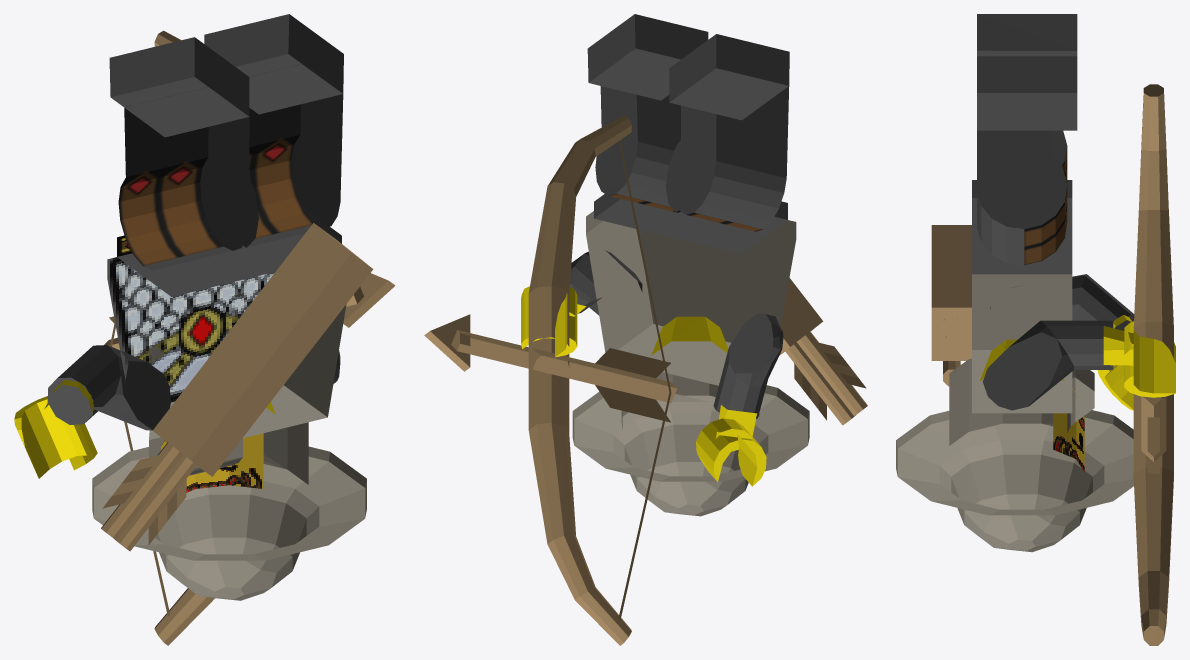
Rendered from minifigjohnmayne01.glb.
The picture shows the model from 3 angles, left to right: view 1: azimuth 30°, elevation 25°; view 2: azimuth 150°, elevation 25°; view 3: azimuth 270°, elevation 25°; orthographic projection. The views are drawn at different scales.
Visible parts, largest first — view 1: 025_shape13, 023_shape11, 019_shape8, 022_shape10, 015_shape5, 021_shape9, 017_shape7, 029_shape16, 012_shape3, 032_shape18, 039_shape22, 038_shape21; view 2: 022_shape10, 039_shape22, 025_shape13, 019_shape8, 038_shape21, 021_shape9, 015_shape5, 017_shape7, 023_shape11, 012_shape3, 029_shape16, 032_shape18 (+2 smaller); view 3: 025_shape13, 039_shape22, 015_shape5, 022_shape10, 017_shape7, 035_shape20, 023_shape11, 021_shape9, 042_shape18, 012_shape3, 029_shape16, 038_shape21 (+2 smaller).
Boxes of the visible parts, x1=… form: 025_shape13: x1=92, y1=402, x2=366, y2=600; 023_shape11: x1=101, y1=223, x2=373, y2=551; 019_shape8: x1=118, y1=88, x2=249, y2=270; 022_shape10: x1=107, y1=257, x2=346, y2=437; 015_shape5: x1=241, y1=64, x2=343, y2=248; 021_shape9: x1=109, y1=37, x2=249, y2=137; 017_shape7: x1=204, y1=14, x2=343, y2=114; 029_shape16: x1=47, y1=345, x2=170, y2=430; 012_shape3: x1=117, y1=178, x2=341, y2=296; 032_shape18: x1=14, y1=379, x2=97, y2=478; 039_shape22: x1=110, y1=30, x2=214, y2=645; 038_shape21: x1=104, y1=273, x2=395, y2=349; 022_shape10: x1=586, y1=211, x2=796, y2=385; 039_shape22: x1=528, y1=115, x2=671, y2=645; 025_shape13: x1=572, y1=316, x2=809, y2=516; 019_shape8: x1=674, y1=69, x2=789, y2=231; 038_shape21: x1=424, y1=314, x2=677, y2=422; 021_shape9: x1=669, y1=34, x2=789, y2=120; 015_shape5: x1=595, y1=48, x2=680, y2=212; 017_shape7: x1=587, y1=14, x2=708, y2=100; 023_shape11: x1=779, y1=278, x2=867, y2=425; 012_shape3: x1=594, y1=140, x2=787, y2=254; 029_shape16: x1=713, y1=313, x2=783, y2=418; 032_shape18: x1=696, y1=403, x2=766, y2=486; 025_shape13: x1=896, y1=339, x2=1133, y2=552; 039_shape22: x1=1133, y1=84, x2=1173, y2=645; 015_shape5: x1=977, y1=92, x2=1067, y2=265; 022_shape10: x1=972, y1=274, x2=1072, y2=413; 017_shape7: x1=977, y1=56, x2=1077, y2=130; 035_shape20: x1=983, y1=320, x2=1113, y2=410; 023_shape11: x1=931, y1=225, x2=971, y2=386; 021_shape9: x1=977, y1=14, x2=1077, y2=56; 042_shape18: x1=1103, y1=321, x2=1175, y2=397; 012_shape3: x1=972, y1=155, x2=1072, y2=274; 029_shape16: x1=990, y1=274, x2=1134, y2=330; 038_shape21: x1=1141, y1=396, x2=1166, y2=473.
Size of the model in its own units: 3.38 by 5.17 by 2.23.
Materials: 9 (4 with a texture image).
